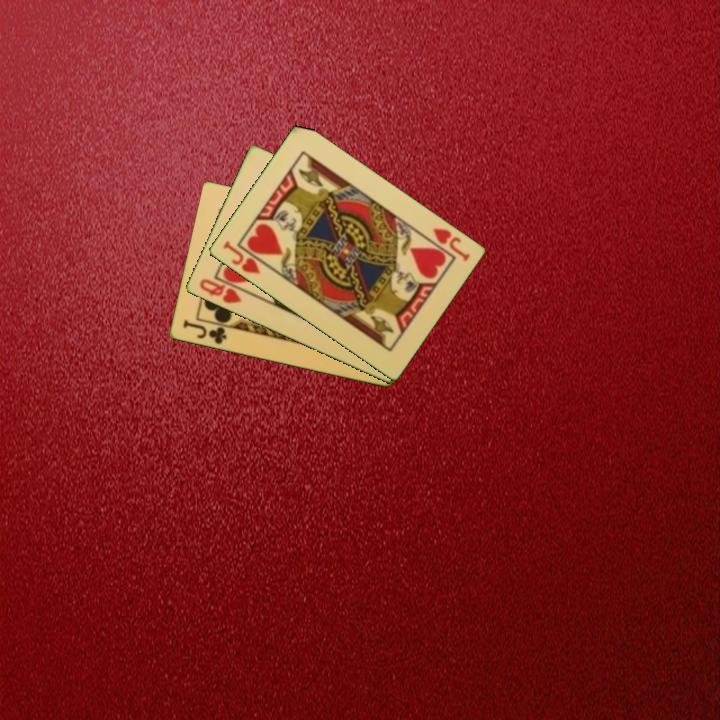Jc: (179, 316, 229, 347)
Jh: (429, 224, 472, 265), (219, 237, 263, 277)
Qh: (195, 275, 244, 307)
